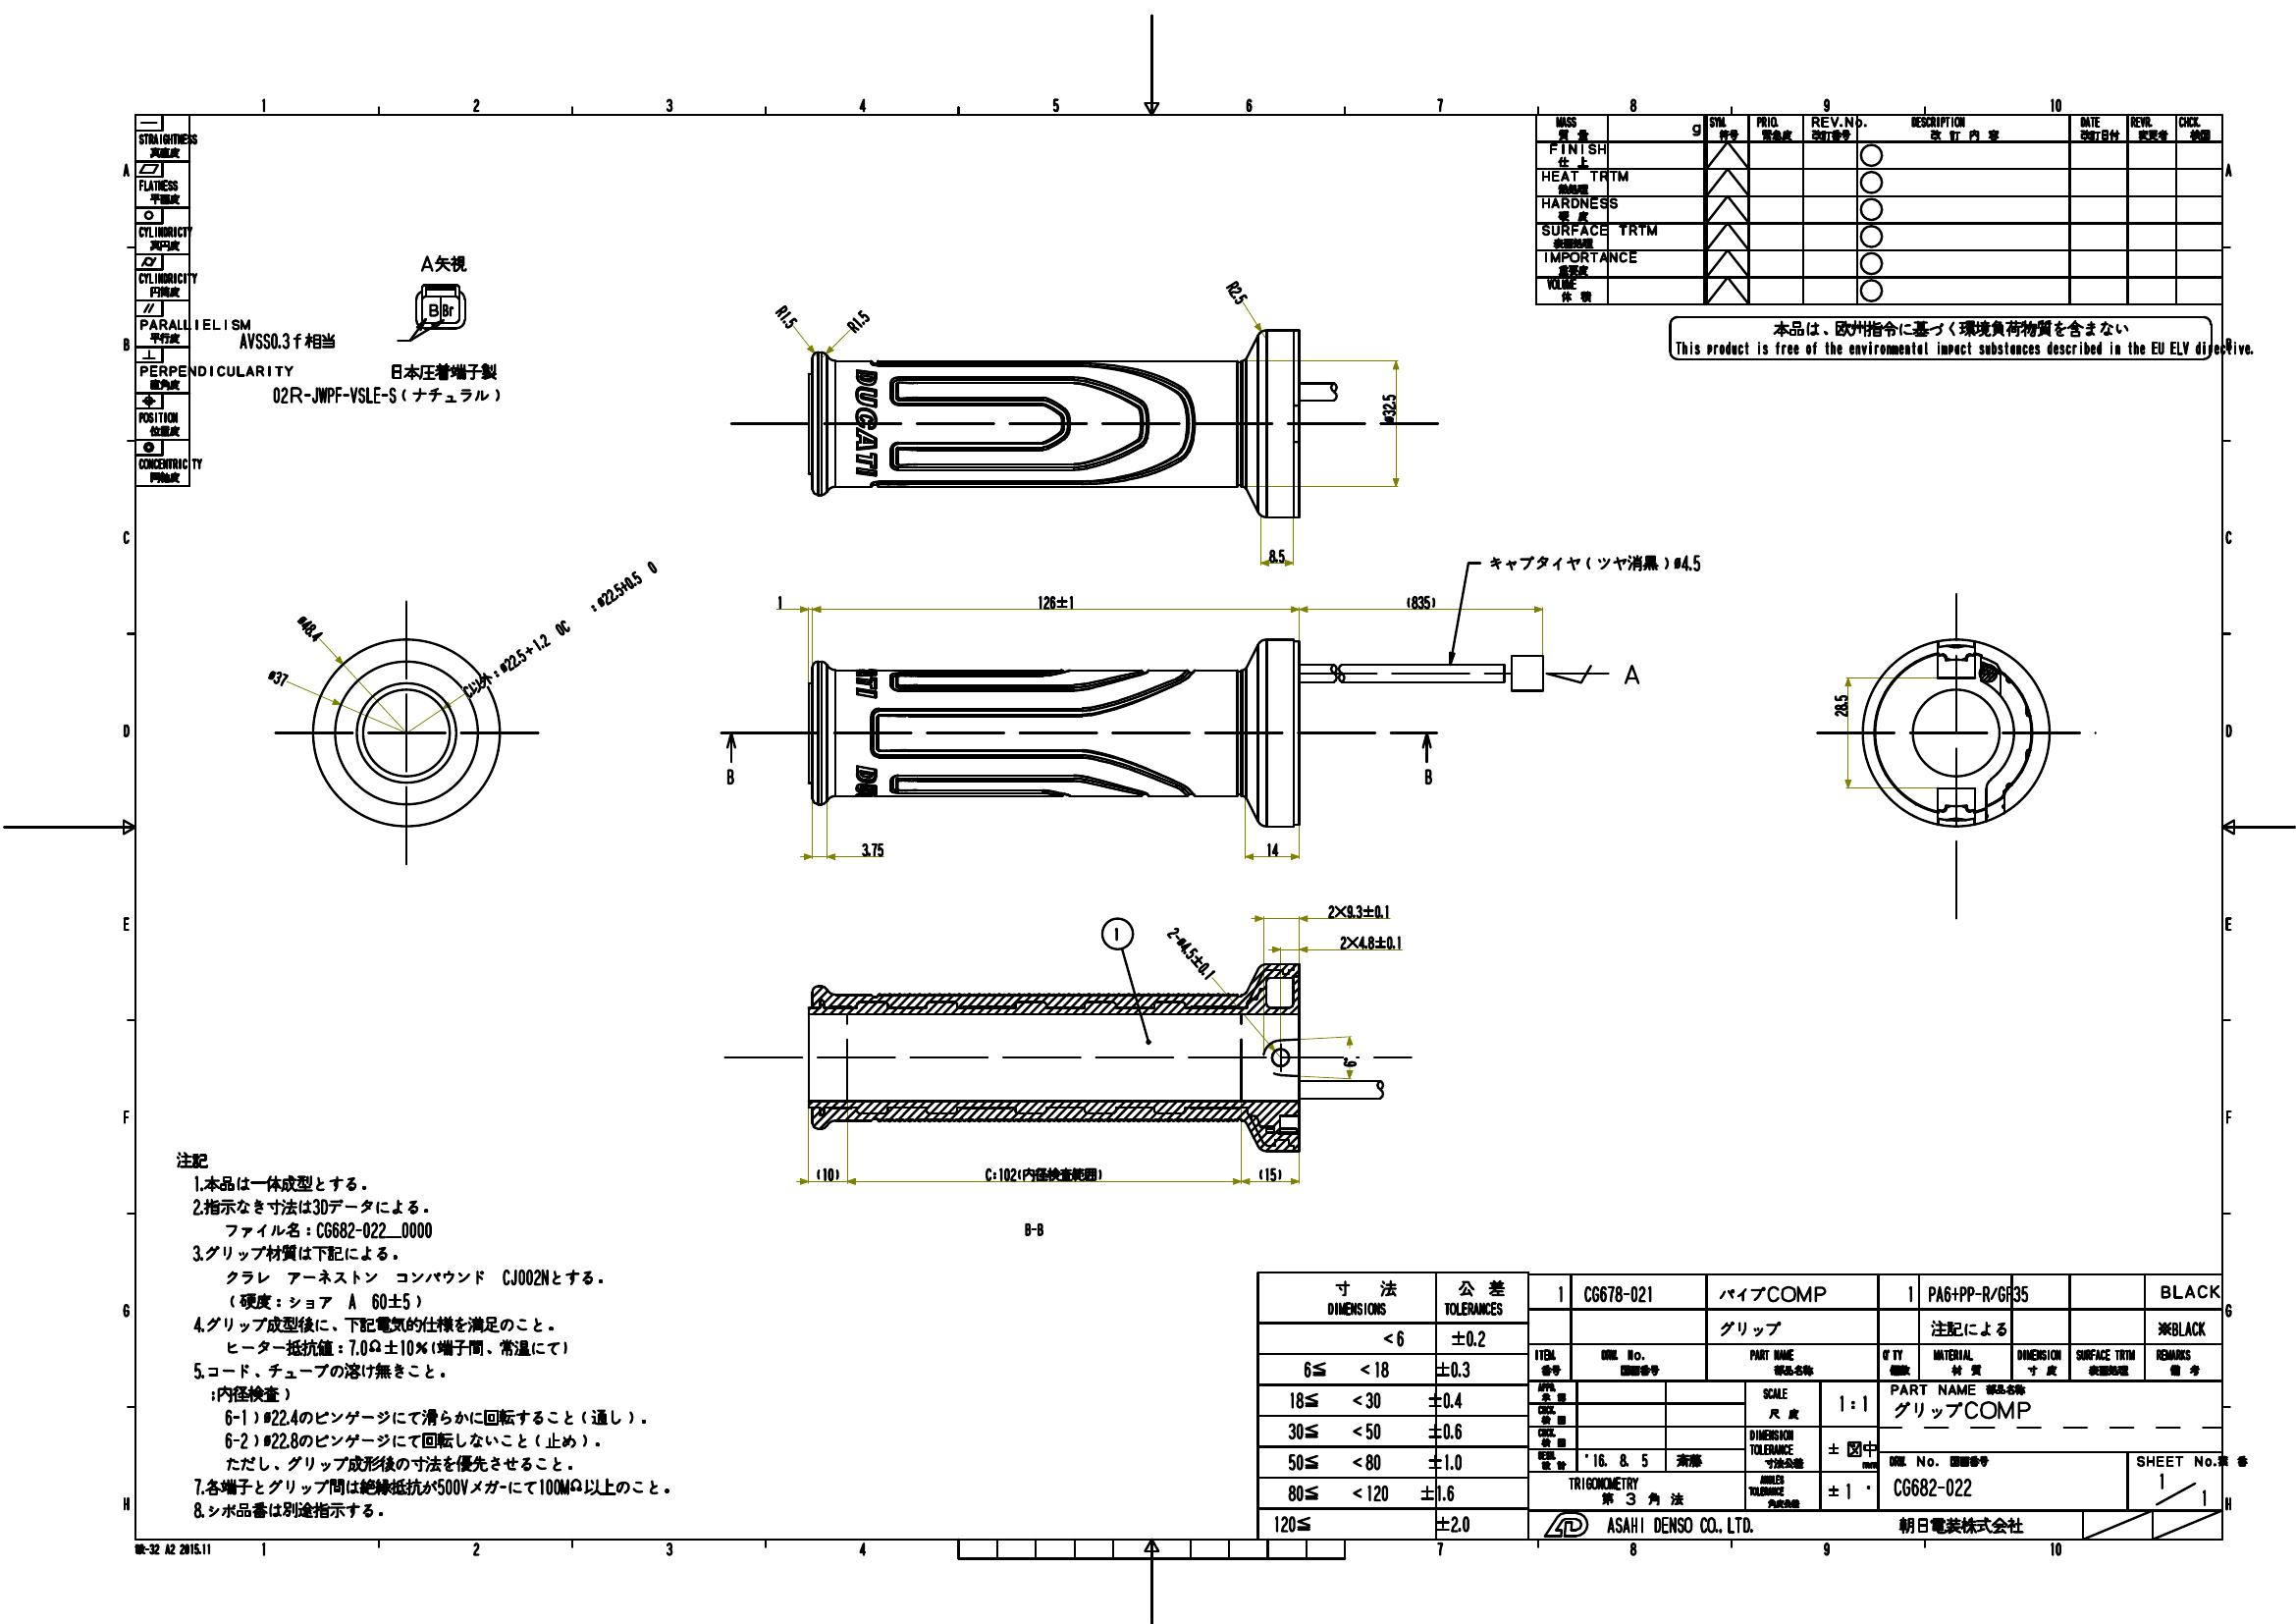anntotation_text: (170, 1146, 676, 1520), (1667, 315, 2256, 360), (271, 383, 502, 404), (1488, 555, 1671, 573), (386, 362, 499, 383), (237, 330, 339, 353), (984, 1165, 1105, 1183), (1098, 914, 1137, 953), (418, 248, 473, 274), (132, 1541, 213, 1555), (1618, 663, 1643, 689), (1021, 1220, 1045, 1236), (722, 765, 738, 787), (1421, 765, 1433, 786)
dimension_text: (443, 620, 676, 638), (1337, 932, 1404, 951), (1158, 944, 1226, 961), (1325, 902, 1391, 919), (1033, 592, 1075, 612), (1379, 390, 1398, 424), (1404, 592, 1439, 610), (290, 620, 327, 636), (1256, 1164, 1284, 1183), (845, 313, 873, 332), (1223, 283, 1249, 301), (1832, 692, 1850, 719), (813, 1167, 840, 1183), (773, 308, 799, 323), (859, 840, 884, 856), (265, 670, 290, 685), (1265, 838, 1281, 859), (1267, 547, 1288, 562), (1340, 1056, 1358, 1069), (775, 592, 783, 608)
object: (805, 636, 1544, 828), (806, 329, 1337, 518), (806, 961, 1302, 1153), (1859, 636, 2052, 828), (311, 636, 502, 828), (415, 281, 466, 330)
title_block: (1254, 1271, 2226, 1541), (1534, 109, 2226, 306), (132, 112, 193, 489)
